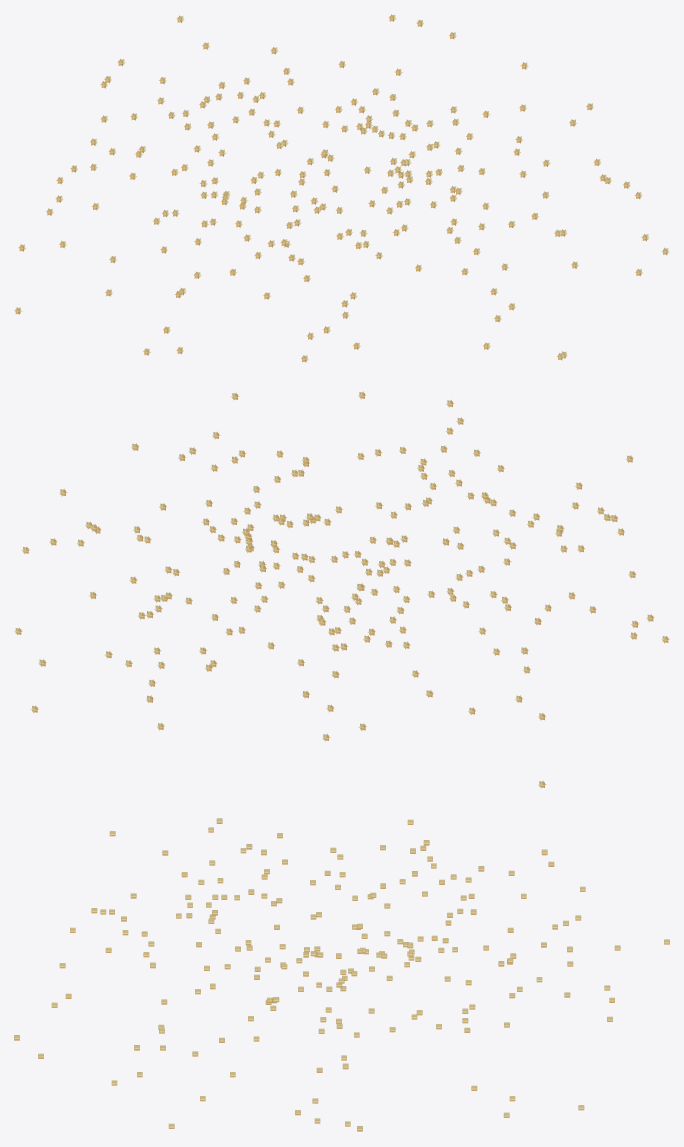
Rendered from fw_palm_green_gold_c.glb.
3 renders of one model, top to bottom at view 1: azimuth 30°, elevation 25°; view 2: azimuth 150°, elevation 25°; view 3: azimuth 270°, elevation 25°, orthographic. The views are drawn at different scales.
Visible parts, largest first — view 1: spire; view 2: spire; view 3: spire.
Part boxes in pixels (x1=…): spire: x1=14, y1=14, x2=669, y2=362; spire: x1=14, y1=391, x2=669, y2=788; spire: x1=14, y1=818, x2=669, y2=1131.
Size of the model in its own units: 17.29 by 7.16 by 19.94.
Materials: 1 (1 with a texture image).
